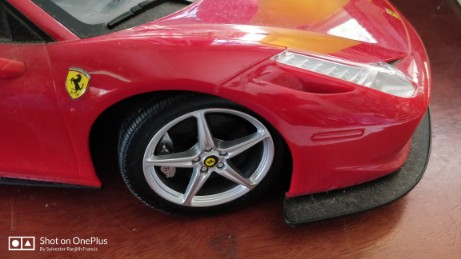unaligned_wheel: (106, 90, 290, 216)
